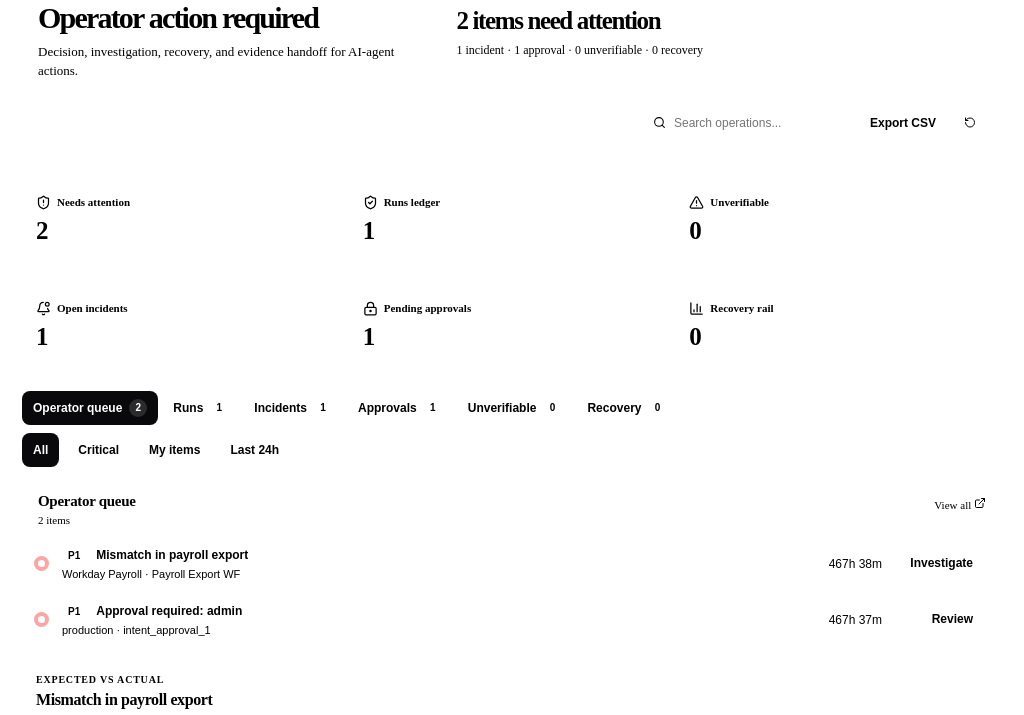
Test case: OperationsPage › shows the linked outcome proof instead of inferring evidence from run status
Click the button "Runs 1": coordinates (201, 408) x1=162 y1=391 x2=239 y2=425
(page scrolled)
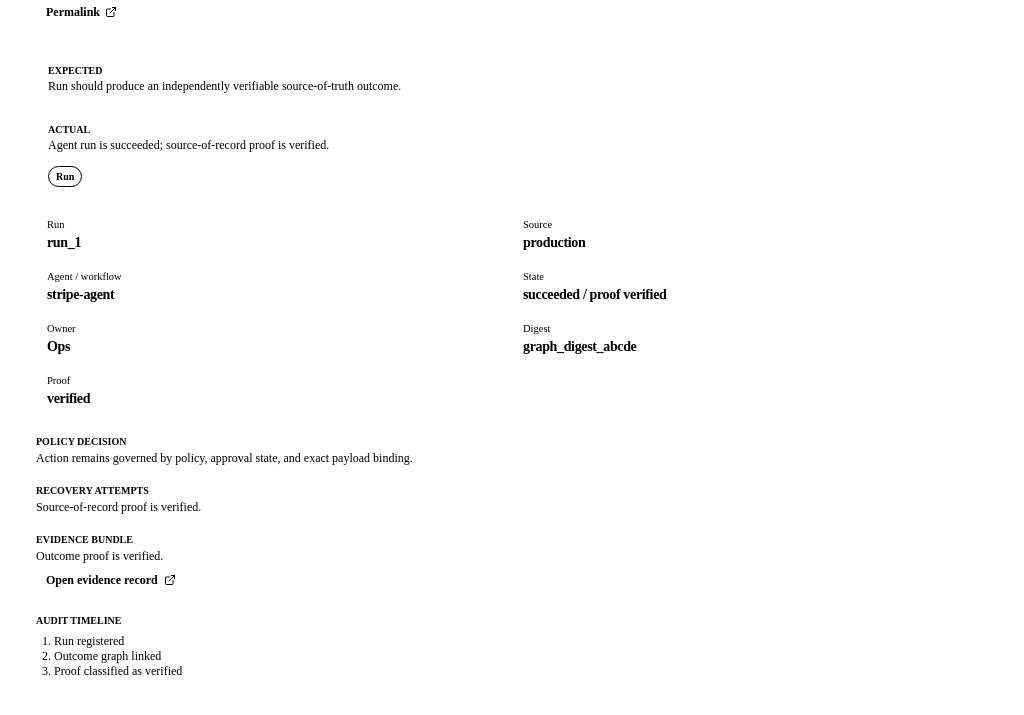
Check: the text "Agent run is succeeded; source-of-record proof is verified." is shown, box x1=48 y1=138 x2=329 y2=152
